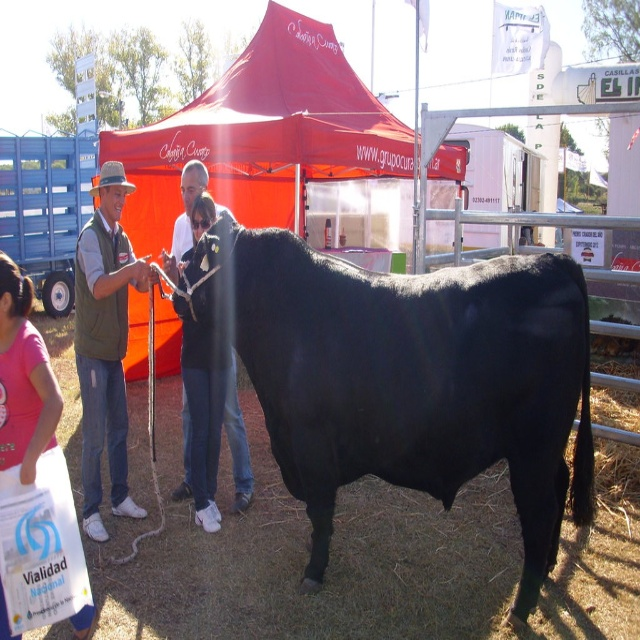Bull: (171, 205, 598, 632)
